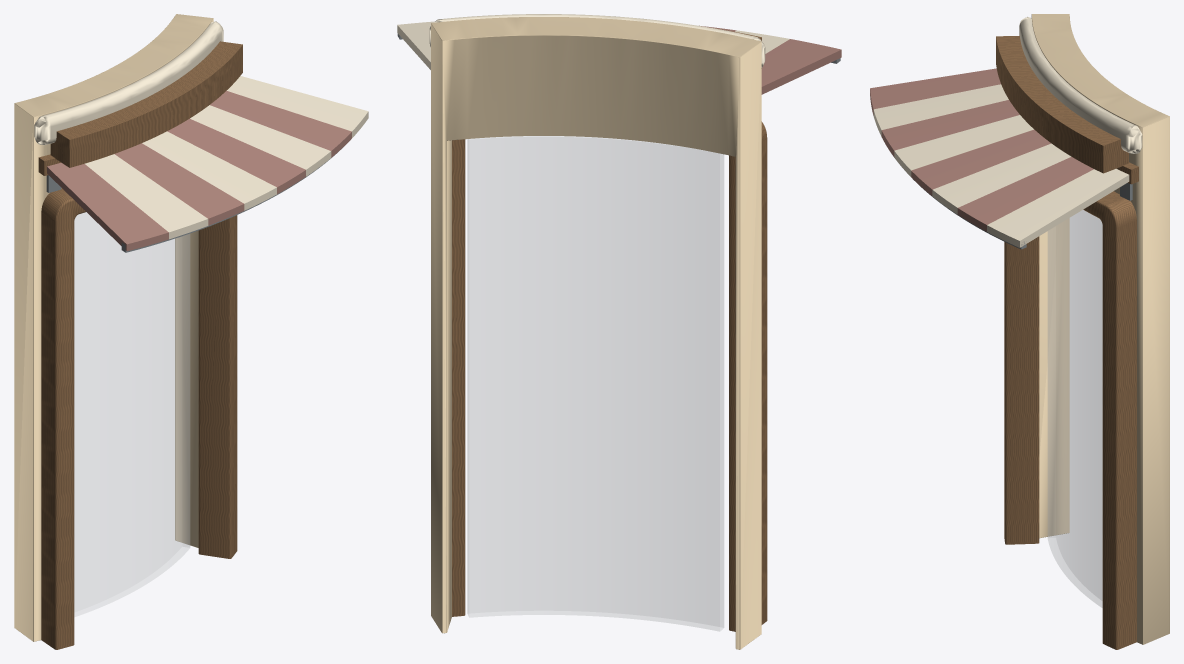
The model's file is ArcShopfront_R2_A45.glb.
3 renders of one model, left to right at view 1: azimuth 30°, elevation 25°; view 2: azimuth 150°, elevation 25°; view 3: azimuth 270°, elevation 25°, orthographic. The views are drawn at different scales.
Visible parts, largest first — view 1: PBK_Arc_PBK_glass.002, PBK_Continuous_Frame_Indochine_Shopfront.003, PBK_substrate.001, PBK_Arc_PBK_signboard.006, PBK_Arc_PBK_awning_stripe.006, PBK_floor_band.001, PBK_Arc_PBK_awning_stripe.007, PBK_Arc_PBK_awning_stripe.011, PBK_Arc_PBK_awning_stripe.012, PBK_Arc_PBK_awning_stripe.013, PBK_Arc_PBK_awning_stripe.014, PBK_Arc_PBK_awning_stripe.015 (+1 smaller); view 2: PBK_Arc_PBK_glass.002, PBK_substrate.001, PBK_Continuous_Frame_Indochine_Shopfront.003, PBK_Arc_PBK_awning_stripe.006, PBK_floor_band.001, PBK_Arc_PBK_awning_stripe.022; view 3: PBK_substrate.001, PBK_Continuous_Frame_Indochine_Shopfront.003, PBK_Arc_PBK_glass.002, PBK_Arc_PBK_signboard.006, PBK_Arc_PBK_awning_stripe.022, PBK_floor_band.001, PBK_Arc_PBK_awning_stripe.015, PBK_Arc_PBK_awning_stripe.014, PBK_Arc_PBK_awning_stripe.013, PBK_Arc_PBK_awning_stripe.012, PBK_Arc_PBK_awning_stripe.011, PBK_Arc_PBK_awning_stripe.007 (+1 smaller).
Boxes of the visible parts, x1,y1,x2,y2 form: PBK_Arc_PBK_glass.002: (74,212,189,616); PBK_Continuous_Frame_Indochine_Shopfront.003: (41,188,237,649); PBK_substrate.001: (14,14,213,641); PBK_Arc_PBK_signboard.006: (50,41,242,167); PBK_Arc_PBK_awning_stripe.006: (47,162,168,251); PBK_floor_band.001: (34,21,223,145); PBK_Arc_PBK_awning_stripe.007: (85,154,208,239); PBK_Arc_PBK_awning_stripe.011: (114,143,244,225); PBK_Arc_PBK_awning_stripe.012: (142,131,276,210); PBK_Arc_PBK_awning_stripe.013: (167,118,305,194); PBK_Arc_PBK_awning_stripe.014: (190,105,331,176); PBK_Arc_PBK_awning_stripe.015: (210,90,351,157); PBK_Arc_PBK_glass.002: (467,136,723,631); PBK_substrate.001: (431,17,761,649); PBK_Continuous_Frame_Indochine_Shopfront.003: (452,121,767,631); PBK_Arc_PBK_awning_stripe.006: (761,39,841,94); PBK_floor_band.001: (429,14,765,67); PBK_Arc_PBK_awning_stripe.022: (397,21,434,69); PBK_substrate.001: (1031,14,1169,644); PBK_Continuous_Frame_Indochine_Shopfront.003: (1004,191,1136,649); PBK_Arc_PBK_glass.002: (1048,210,1102,607); PBK_Arc_PBK_signboard.006: (996,35,1128,173); PBK_Arc_PBK_awning_stripe.022: (987,168,1129,247); PBK_floor_band.001: (1019,17,1142,153); PBK_Arc_PBK_awning_stripe.015: (957,157,1093,231); PBK_Arc_PBK_awning_stripe.014: (932,143,1071,214); PBK_Arc_PBK_awning_stripe.013: (911,129,1050,195); PBK_Arc_PBK_awning_stripe.012: (894,115,1033,176); PBK_Arc_PBK_awning_stripe.011: (881,100,1019,157); PBK_Arc_PBK_awning_stripe.007: (873,84,1008,136).
Bounding box in the file's own units: 1.97 × 3 × 1.58.
Materials: 7 (2 with a texture image).
